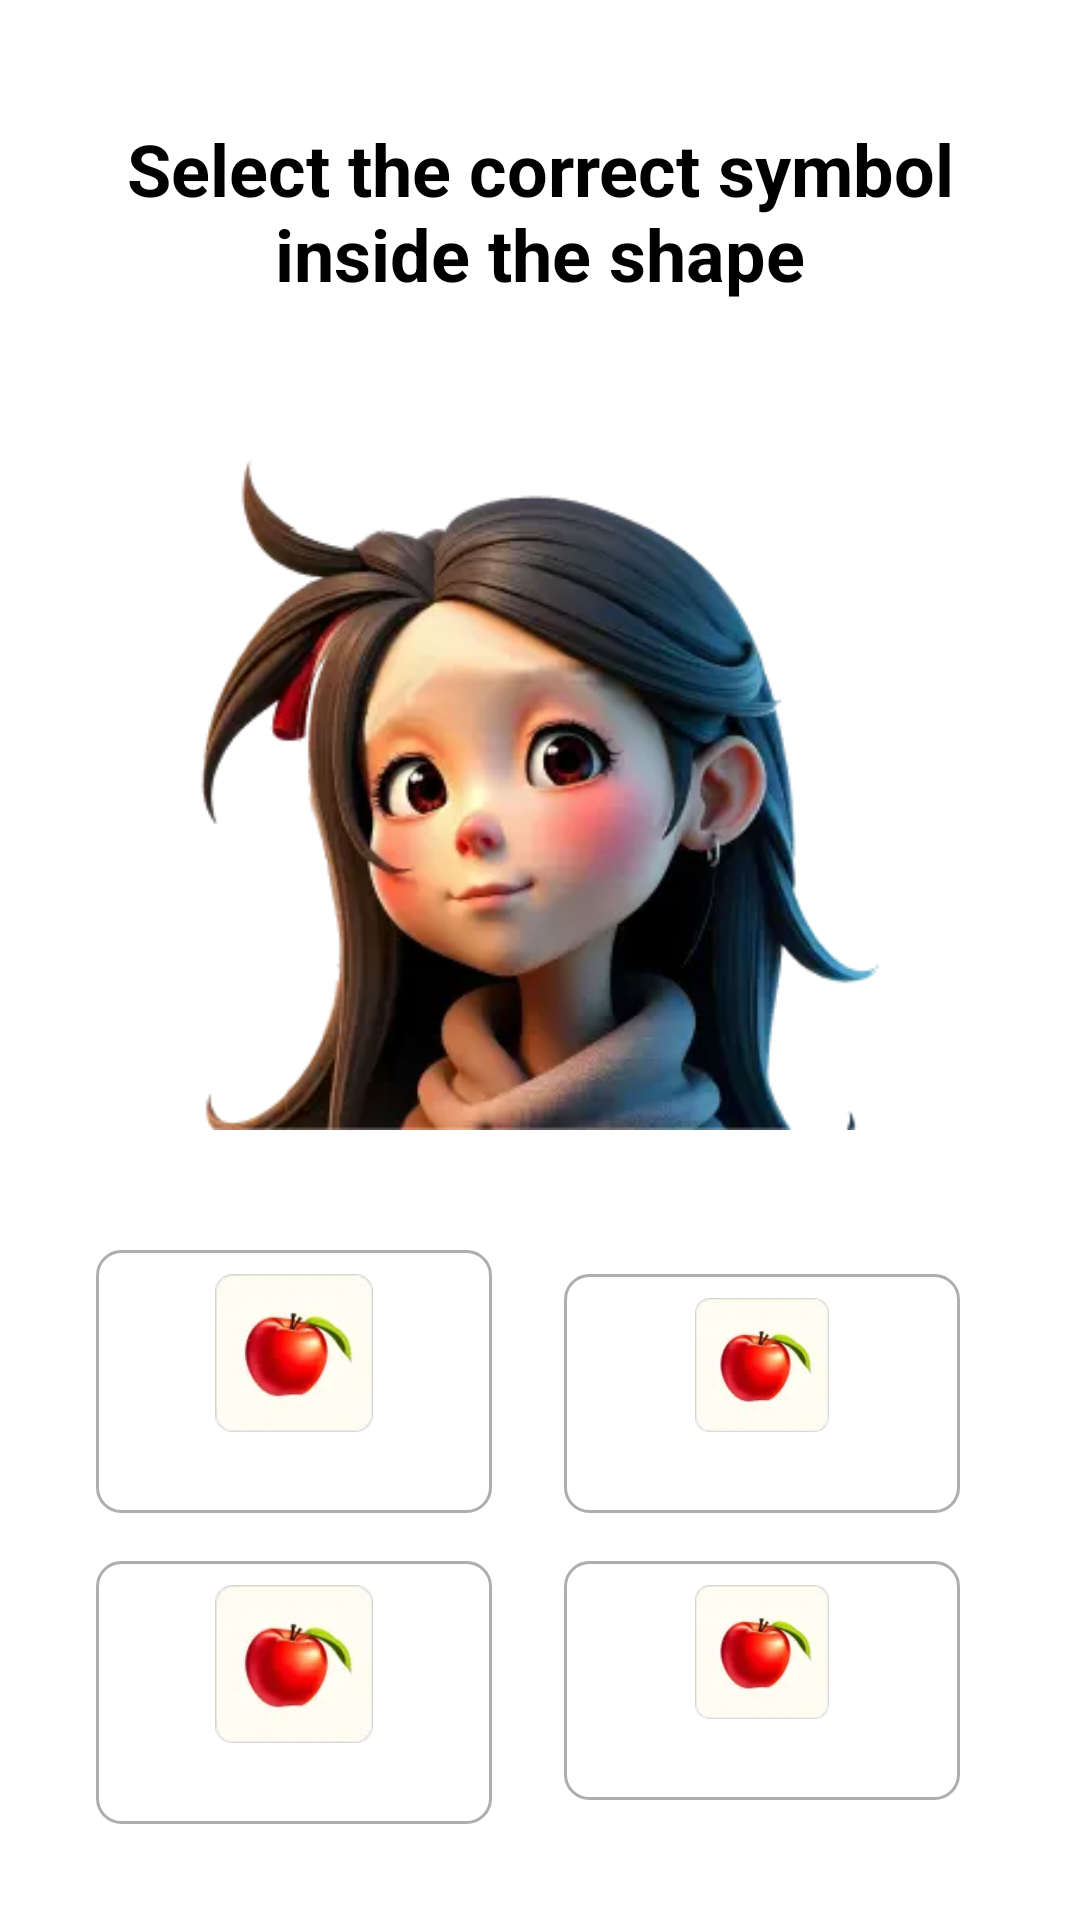

Icons on this 1080px×1920px Android screen, each with its box as (x1, y1, x2, y2):
apple: (215, 1274, 373, 1432), (695, 1298, 829, 1432), (215, 1585, 373, 1743), (695, 1585, 829, 1719)
